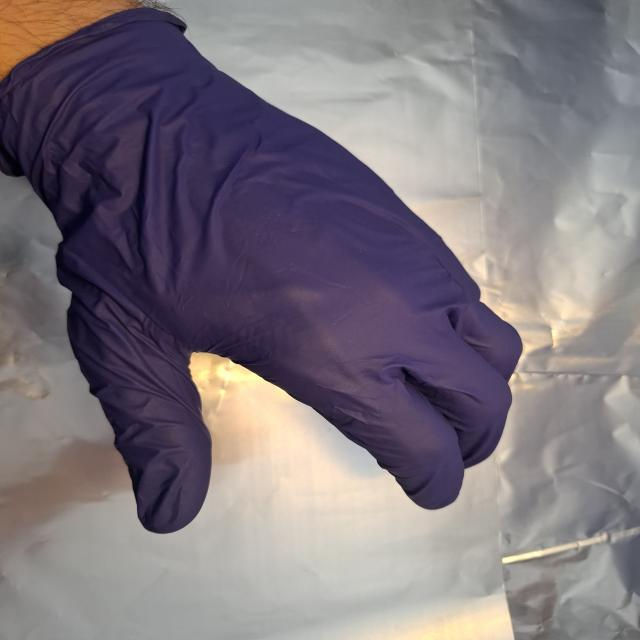glove_on: (1, 8, 531, 538)
